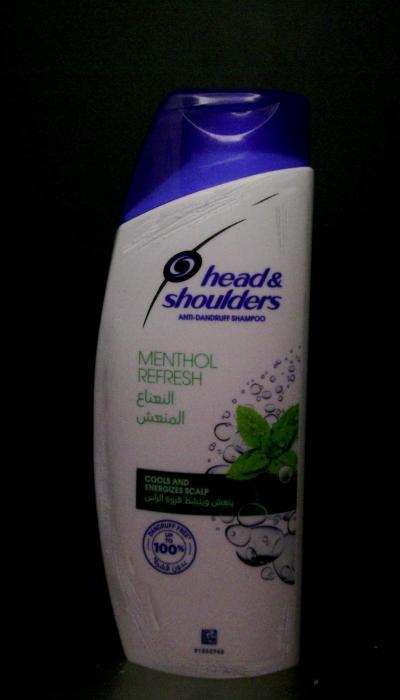scuff_unacc: (115, 183, 252, 249), (117, 566, 165, 672), (99, 340, 119, 558), (172, 654, 272, 676), (272, 591, 296, 668), (271, 195, 293, 264)
